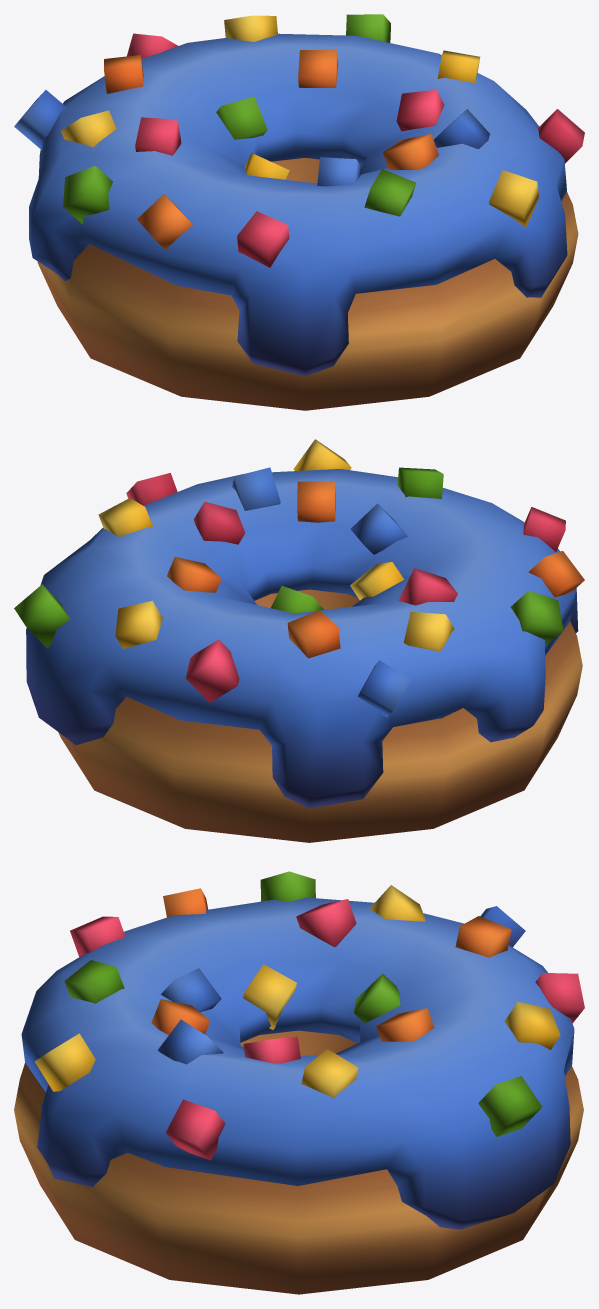
The model's file is m_Donut08.fbx.
3 views of the same model, one above another, from view 1: azimuth 30°, elevation 25°; view 2: azimuth 150°, elevation 25°; view 3: azimuth 270°, elevation 25° (orthographic). The views are drawn at different scales.
Parts seen in each view (by area): view 1: m_Donut08; view 2: m_Donut08; view 3: m_Donut08.
Part boxes in pixels (x1=…): m_Donut08: x1=14, y1=14, x2=584, y2=410; m_Donut08: x1=14, y1=439, x2=584, y2=842; m_Donut08: x1=14, y1=871, x2=584, y2=1294.
Bounding box in the file's own units: 12.47 × 5.8 × 12.18.
